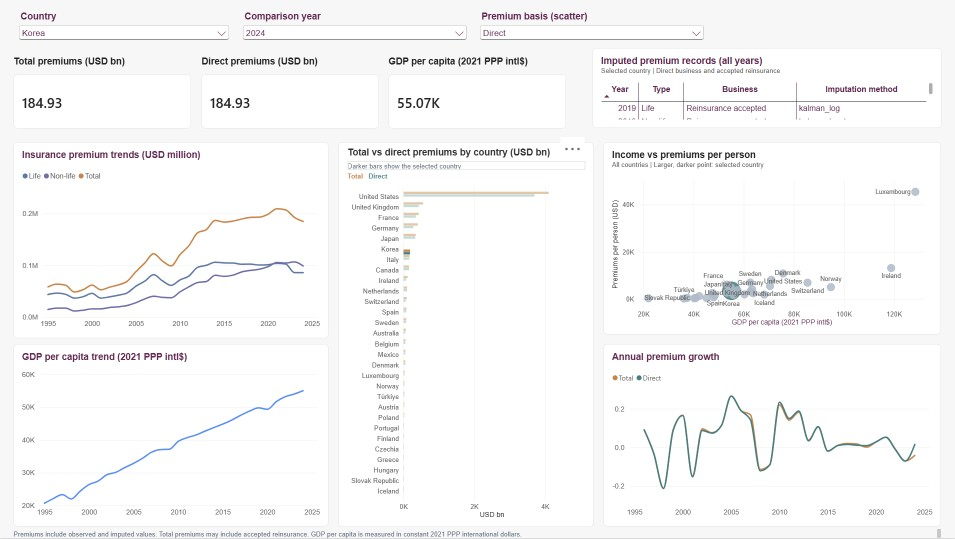

This screenshot's page, from the dashboard's own definition file:
{"tool":"powerbi","page":{"name":"Market Overview","canvas":[1920,1080],"ordinal":0},"visuals":[{"type":"slicer","fields":{"Values":["Country.Country"]},"box":[37.5,25,430,64],"z":0},{"type":"lineChart","title":"GDP per capita trend (2021 PPP intl$)","fields":{"Category":["Year.Year"],"Y":["Sum(02_worldbank_gdp.GDP)"]},"box":[32.5,692.5,630,365],"z":1000},{"type":"tableEx","title":"Imputed premium records (all years)","fields":{"Values":["03_imputed_insurance_rows_python.TIME_PERIOD","03_imputed_insurance_rows_python.Insurance type","03_imputed_insurance_rows_python.Insurance business","03_imputed_insurance_rows_python.imputation_method"]},"box":[1190,100,698,160],"z":2000},{"type":"lineChart","title":"Insurance premium trends (USD million)","fields":{"Category":["Year.Year"],"Y":["03_imputed_insurance_rows_python.Life Premium","03_imputed_insurance_rows_python.Non-life Premium","03_imputed_insurance_rows_python.Total Premium"]},"box":[32.5,287.5,630,392.5],"z":3000},{"type":"cardVisual","title":"Total premiums (USD bn)","fields":{"Data":["03_imputed_insurance_rows_python.Total USD bn"]},"box":[32.5,115,355,145],"z":4000},{"type":"slicer","fields":{"Values":["Year.Year"]},"box":[485,25,457.5,87.5],"z":5000},{"type":"cardVisual","title":"GDP per capita (2021 PPP intl$)","fields":{"Data":["02_selected_insurance_rows.GDP per Capita"]},"box":[782.5,115,355,145],"z":6000},{"type":"cardVisual","title":"Direct premiums (USD bn)","fields":{"Data":["03_imputed_insurance_rows_python.Direct USD bn"]},"box":[407.5,115,355,145],"z":7000},{"type":"scatterChart","title":"Income vs premiums per person","fields":{"Category":["Country Axis.Country"],"Size":["Country Axis.Scatter highlight size"],"X":["Country Axis.Scatter comparison GDP"],"Y":["Country Axis.Scatter comparison premium"]},"box":[1212,287.5,675,385],"z":8000},{"type":"clusteredBarChart","title":"Total vs direct premiums by country (USD bn)","fields":{"Category":["Country Axis.Country"],"Y":["Country Axis.Total other countries","Country Axis.Direct other countries","Country Axis.Total selected country","Country Axis.Direct selected country"]},"box":[682,287.5,510,770],"z":9000},{"type":"slicer","fields":{"Values":["Premium View.View"]},"box":[960,25,457.5,65],"z":10000},{"type":"lineChart","title":"Annual premium growth","fields":{"Category":["Year.Year"],"Y":["02_selected_insurance_rows.Total Premium YoY","02_selected_insurance_rows.Direct Premium YoY"]},"box":[1212,692.5,675,365],"z":11000},{"type":"textbox","box":[32,1061,1855,18],"z":12000},{"type":"textbox","box":[699,325,476,19],"z":13000},{"type":"textbox","box":[699,298,476,24],"z":14000},{"type":"textbox","box":[699,346,470,20],"z":15000}]}

Visuals, with their boxes in screenshot pixels (x1, y1, x2, y2), scaled from the page's 1920x1080 canvas onto the 955x539 screenshot:
slicer - Country.Country: (left=19, top=12, right=233, bottom=44)
"GDP per capita trend (2021 PPP intl$)" lineChart: (left=16, top=346, right=330, bottom=528)
"Imputed premium records (all years)" tableEx: (left=592, top=50, right=939, bottom=130)
"Insurance premium trends (USD million)" lineChart: (left=16, top=143, right=330, bottom=339)
"Total premiums (USD bn)" cardVisual: (left=16, top=57, right=193, bottom=130)
slicer - Year.Year: (left=241, top=12, right=469, bottom=56)
"GDP per capita (2021 PPP intl$)" cardVisual: (left=389, top=57, right=566, bottom=130)
"Direct premiums (USD bn)" cardVisual: (left=203, top=57, right=379, bottom=130)
"Income vs premiums per person" scatterChart: (left=603, top=143, right=939, bottom=336)
"Total vs direct premiums by country (USD bn)" clusteredBarChart: (left=339, top=143, right=593, bottom=528)
slicer - Premium View.View: (left=478, top=12, right=705, bottom=45)
"Annual premium growth" lineChart: (left=603, top=346, right=939, bottom=528)
textbox: (left=16, top=530, right=939, bottom=538)
textbox: (left=348, top=162, right=584, bottom=172)
textbox: (left=348, top=149, right=584, bottom=161)
textbox: (left=348, top=173, right=581, bottom=183)
